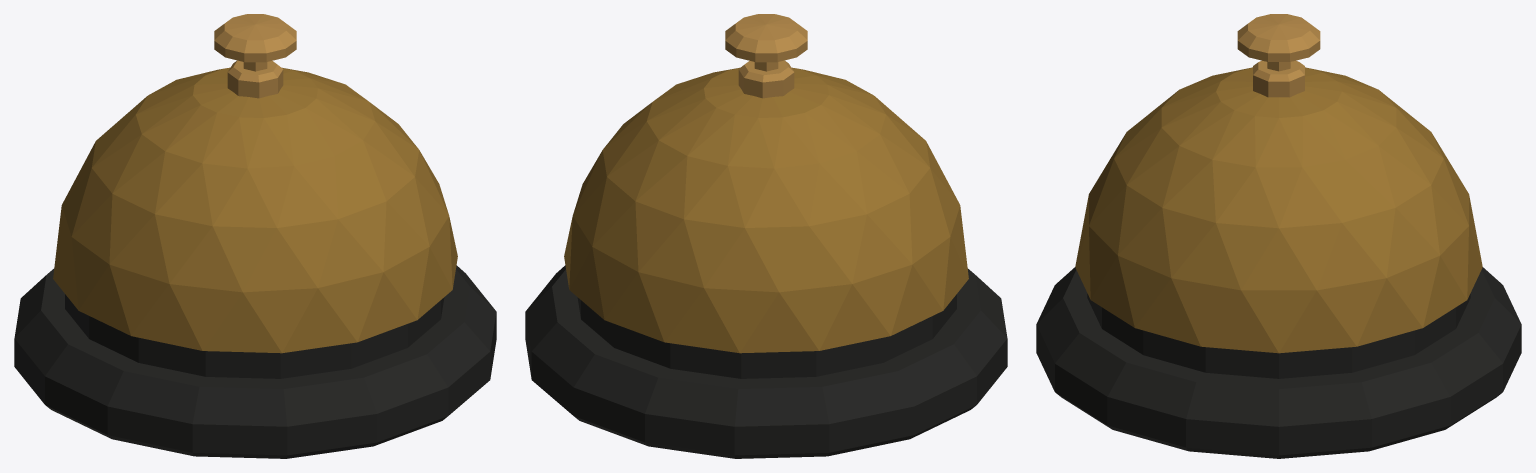
File: brass-service-bell-5677fb.glb
3 views of the same model, side by side, from view 1: azimuth 30°, elevation 25°; view 2: azimuth 150°, elevation 25°; view 3: azimuth 270°, elevation 25° (orthographic).
Parts seen in each view (by area): view 1: bell-body, plunger-mesh; view 2: bell-body, plunger-mesh; view 3: bell-body, plunger-mesh.
Boxes of the visible parts, x1=… form: bell-body: x1=14, y1=60, x2=496, y2=458; plunger-mesh: x1=214, y1=14, x2=296, y2=71; bell-body: x1=525, y1=60, x2=1007, y2=458; plunger-mesh: x1=725, y1=14, x2=807, y2=71; bell-body: x1=1036, y1=60, x2=1521, y2=458; plunger-mesh: x1=1237, y1=14, x2=1320, y2=71.
Bounding box in the file's own units: 0.1 × 0.0762 × 0.1.
